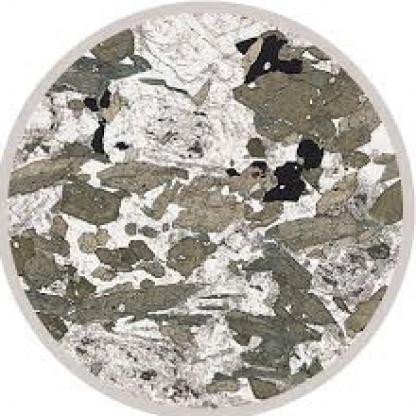Igneous_Diorite: (2, 2, 414, 414)
